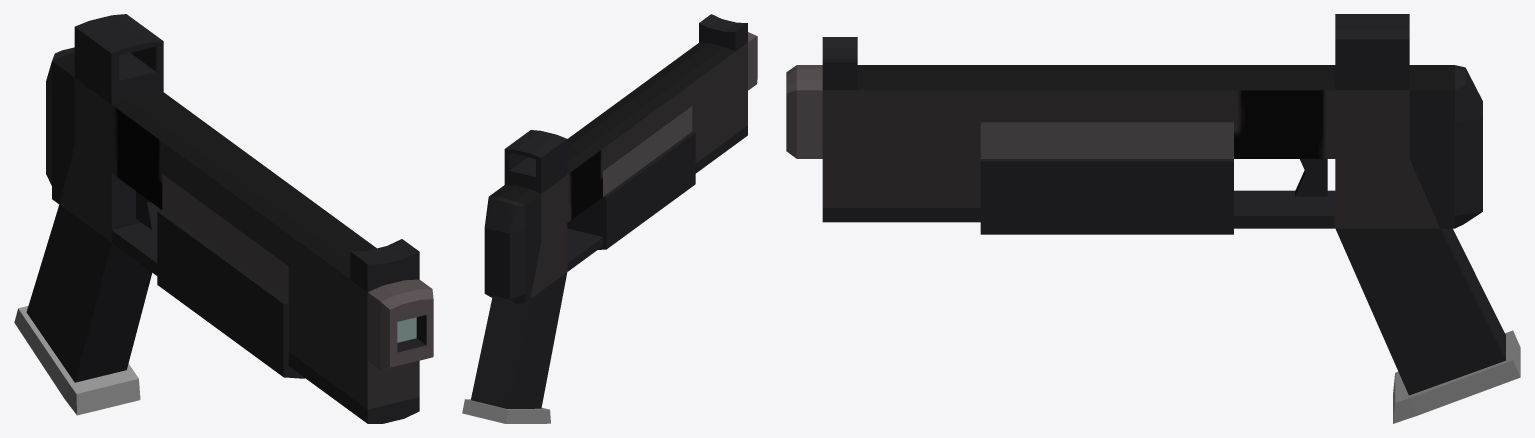
The model's file is Laser_Gun.fbx.
3 views of the same model, side by side, from view 1: azimuth 30°, elevation 25°; view 2: azimuth 150°, elevation 25°; view 3: azimuth 270°, elevation 25° (orthographic). The views are drawn at different scales.
Visible parts, largest first — view 1: Laser_Gun; view 2: Laser_Gun; view 3: Laser_Gun.
Boxes of the visible parts, box(x1,y1,x2,y2) form: Laser_Gun: box(14, 14, 433, 423); Laser_Gun: box(462, 14, 757, 423); Laser_Gun: box(786, 14, 1520, 423).
Bounding box in the file's own units: 0.045 × 0.2525 × 0.4375.
